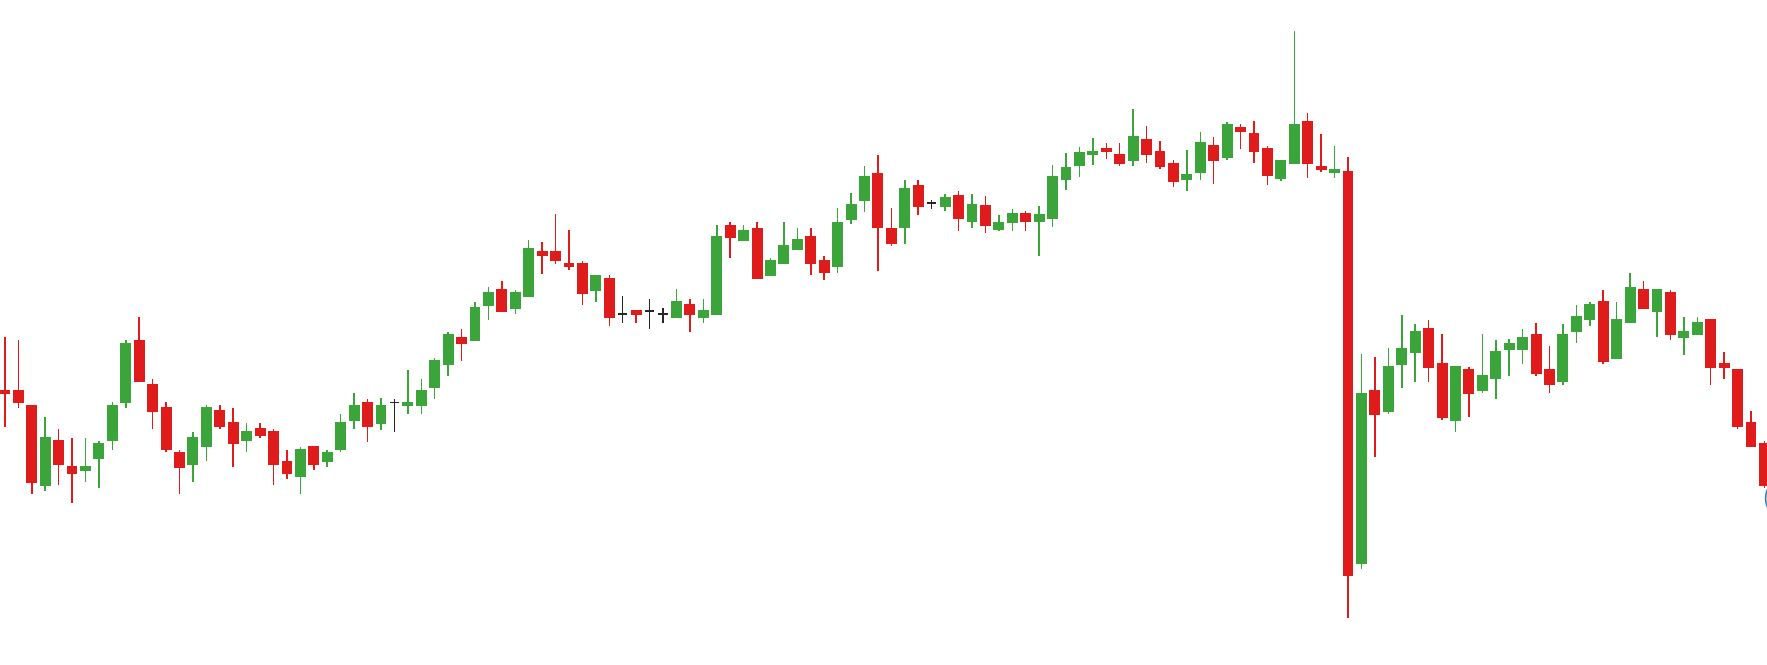sell: (1124, 33, 1305, 172)
